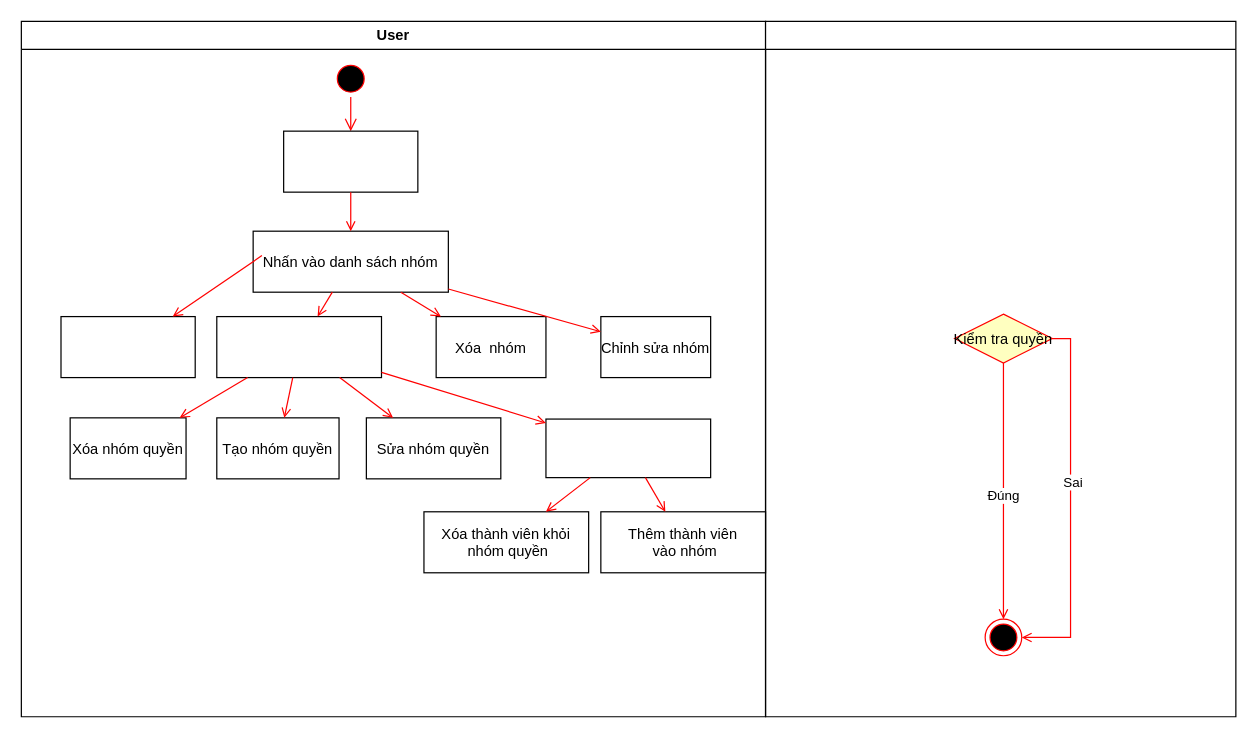
The diagram is 1258 pixels wide and 738 high, and some of its shapes have lost their labels. The shapes that lost their labels are listed below. From the top down, each one's box as (x1, y1, x2, y2) in pixels, then its label:
(282, 130, 418, 192): Đăng nhập
(60, 315, 195, 378): Tạo nhóm
(216, 315, 381, 378): Nhấn vào chi tiết nhóm
(764, 20, 1236, 717): Thread 2
(545, 418, 711, 478): Nhấn vào xem thành viên nhóm quyền
